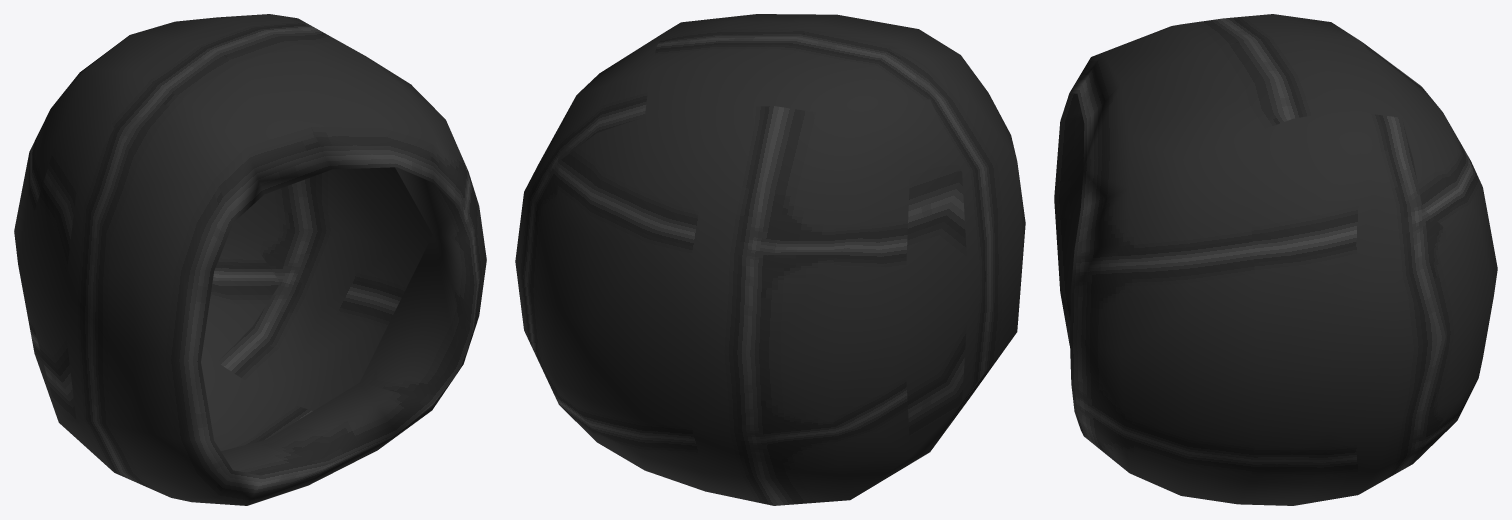
File: hlmt_hood_marine.dae
3 views of the same model, side by side, from view 1: azimuth 30°, elevation 25°; view 2: azimuth 150°, elevation 25°; view 3: azimuth 270°, elevation 25° (orthographic). The views are drawn at different scales.
Visible parts, largest first — view 1: hlmt_hood_marine; view 2: hlmt_hood_marine; view 3: hlmt_hood_marine.
Boxes of the visible parts, x1,y1,x2,y2 form: hlmt_hood_marine: [14, 14, 486, 505]; hlmt_hood_marine: [515, 14, 1025, 505]; hlmt_hood_marine: [1054, 14, 1497, 505].
Bounding box in the file's own units: 21.54 × 22.39 × 20.98.
Materials: 1 (1 with a texture image).
